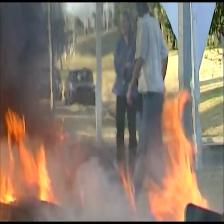fire: (149, 91, 224, 222), (0, 99, 71, 212)
smoke: (56, 118, 153, 220)
